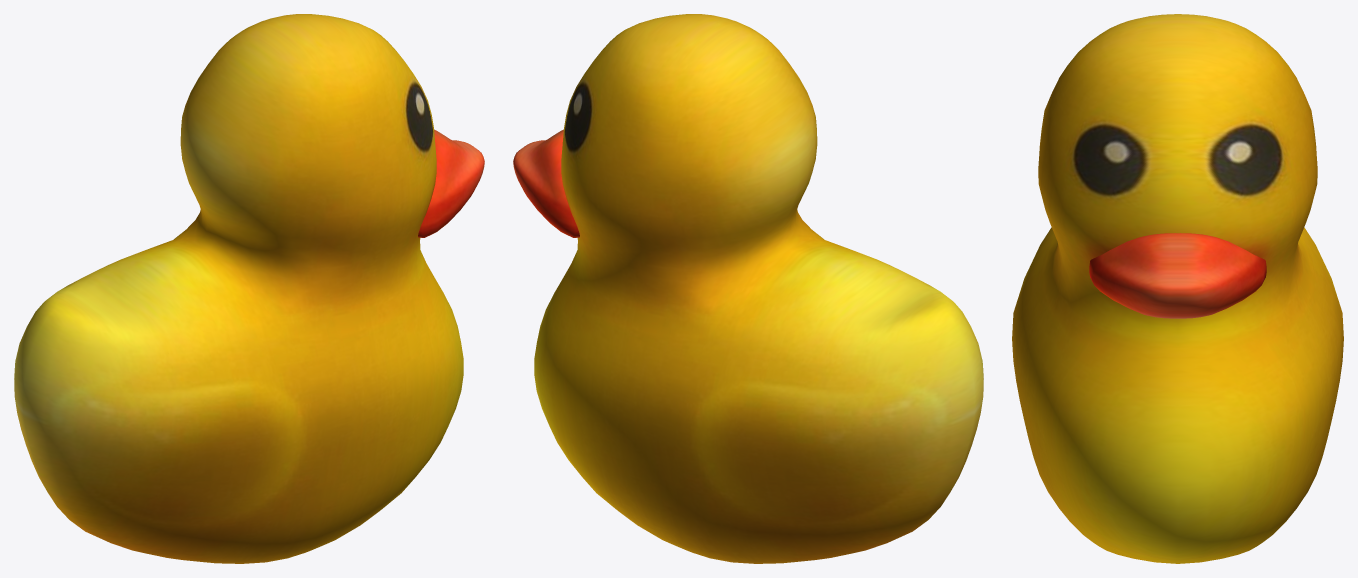
File: Canard+V14.dae
3 renders of one model, left to right at view 1: azimuth 30°, elevation 25°; view 2: azimuth 150°, elevation 25°; view 3: azimuth 270°, elevation 25°, orthographic. The views are drawn at different scales.
Visible parts, largest first — view 1: group_2, group_1; view 2: group_2, group_1; view 3: group_2, group_1.
Part boxes in pixels (x1,y1,x2,y2): group_2: [14, 14, 463, 563]; group_1: [418, 129, 484, 237]; group_2: [534, 14, 983, 563]; group_1: [513, 129, 579, 237]; group_2: [1012, 14, 1343, 563]; group_1: [1089, 233, 1266, 318].
Size of the model in its own units: 51998 by 30511 by 54322.
Materials: 1 (1 with a texture image).
